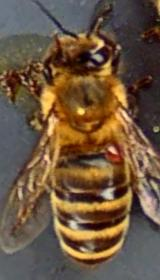varroa_mite: (101, 130, 137, 172)
